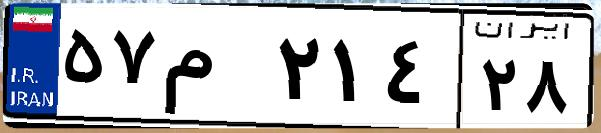1: (330, 28, 385, 110)
2: (270, 28, 330, 110), (475, 38, 525, 113)
4: (385, 28, 445, 110)
5: (57, 26, 110, 100)
7: (110, 28, 158, 98)
8: (525, 38, 570, 115)
م: (158, 20, 270, 120)
